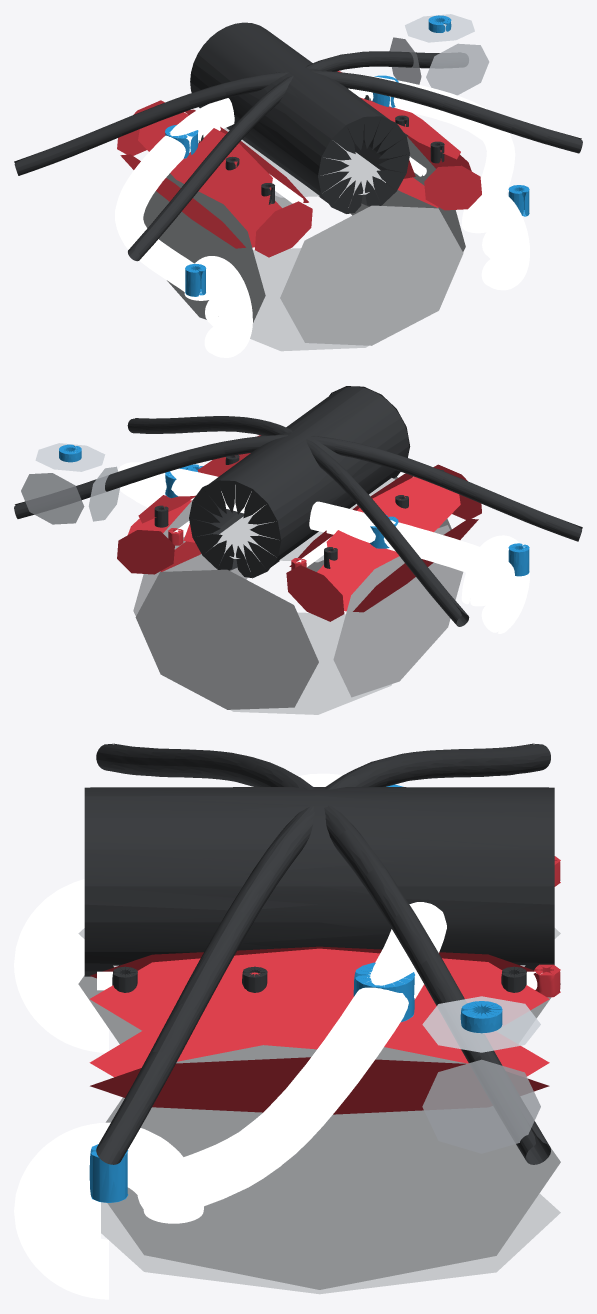
Rendered from powertrain_bay.glb.
The picture shows the model from 3 angles, top to bottom: view 1: azimuth 30°, elevation 25°; view 2: azimuth 150°, elevation 25°; view 3: azimuth 270°, elevation 25°; orthographic projection. The views are drawn at different scales.
Visible parts, largest first — view 1: Powertrain_Bay_Detailed_Assembly; view 2: Powertrain_Bay_Detailed_Assembly; view 3: Powertrain_Bay_Detailed_Assembly.
Part boxes in pixels (left/top/right/bottom): Powertrain_Bay_Detailed_Assembly: left=14, top=14, right=582, bottom=357; Powertrain_Bay_Detailed_Assembly: left=14, top=386, right=582, bottom=714; Powertrain_Bay_Detailed_Assembly: left=14, top=743, right=560, bottom=1299.
Bounding box in the file's own units: 1.18 × 0.57 × 0.7023.
